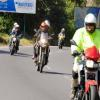motorcycles: (75, 45, 100, 100), (35, 30, 50, 72), (9, 33, 20, 56), (57, 29, 64, 48)
